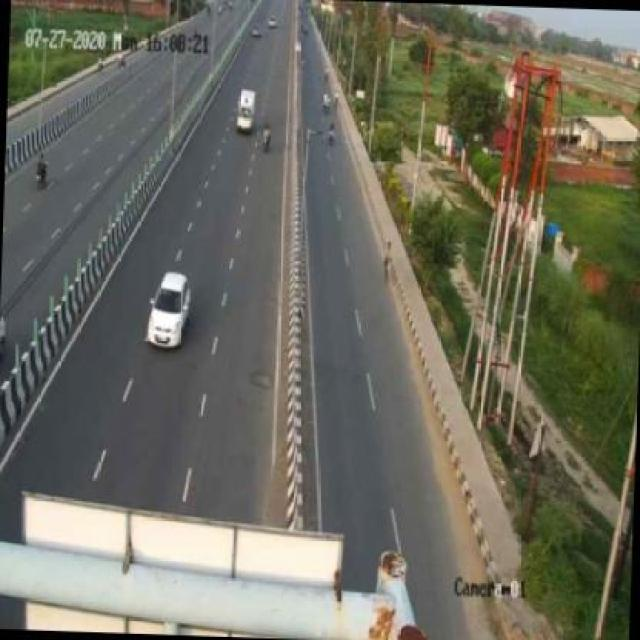car: (138, 266, 198, 357), (231, 83, 258, 140)
